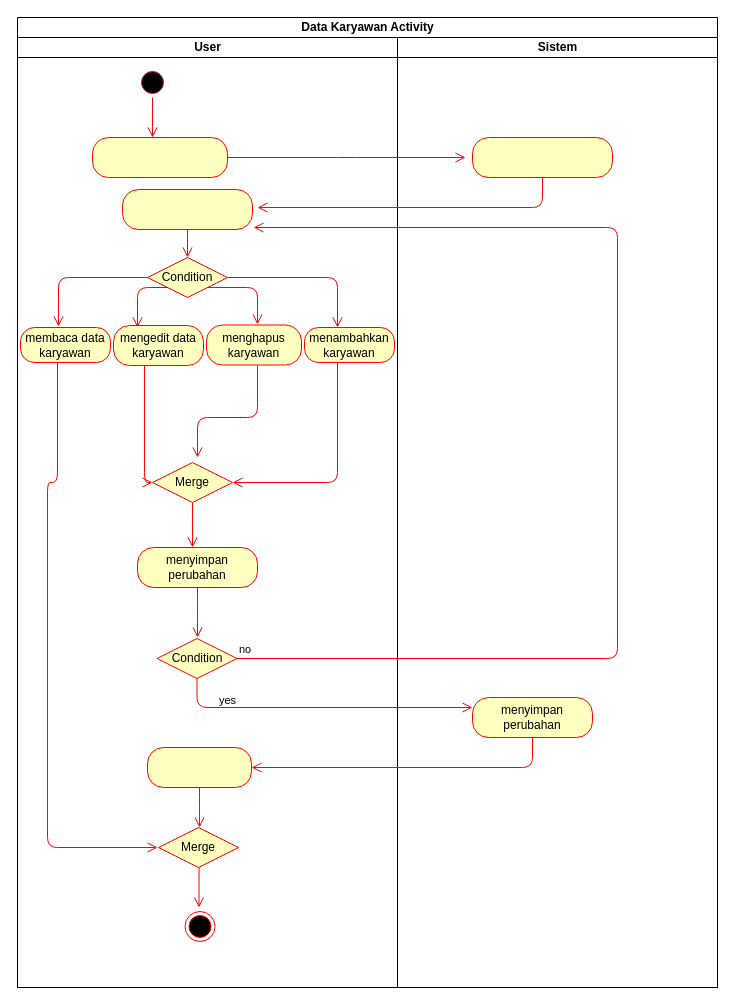
Some shapes in this 735 by 1005 pixel diagram are drawn without their labels. Each missing label, with the centre of its shape:
masuk pada halaman data karyawan: point 187,209
melihat hasil perubahan: point 199,767
memilih fitur data karyawan di dashboard: point 160,157
menampilkan halaman data karyawan: point 542,157
